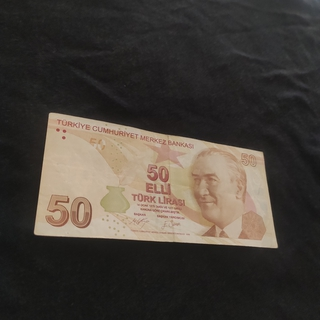50TLFront: (33, 111, 279, 249)
